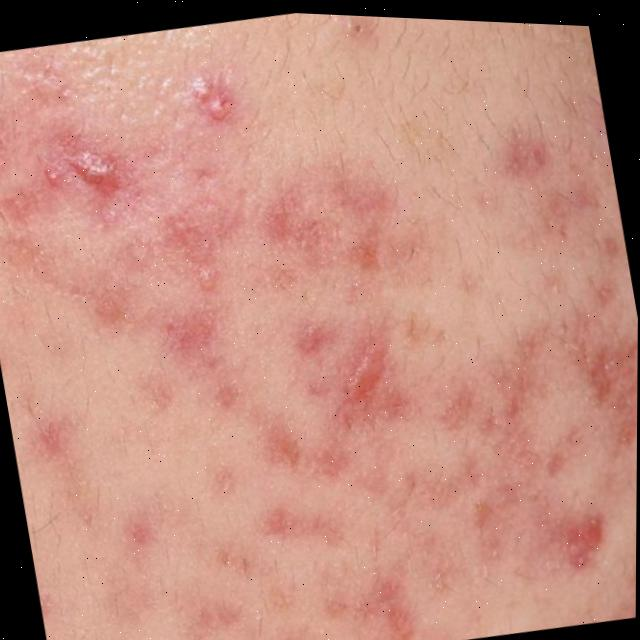Acne: (0, 12, 640, 640)
